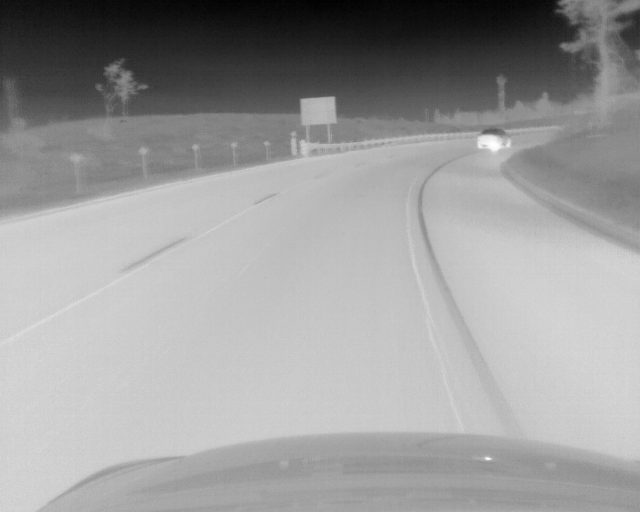car: (477, 127, 511, 151)
